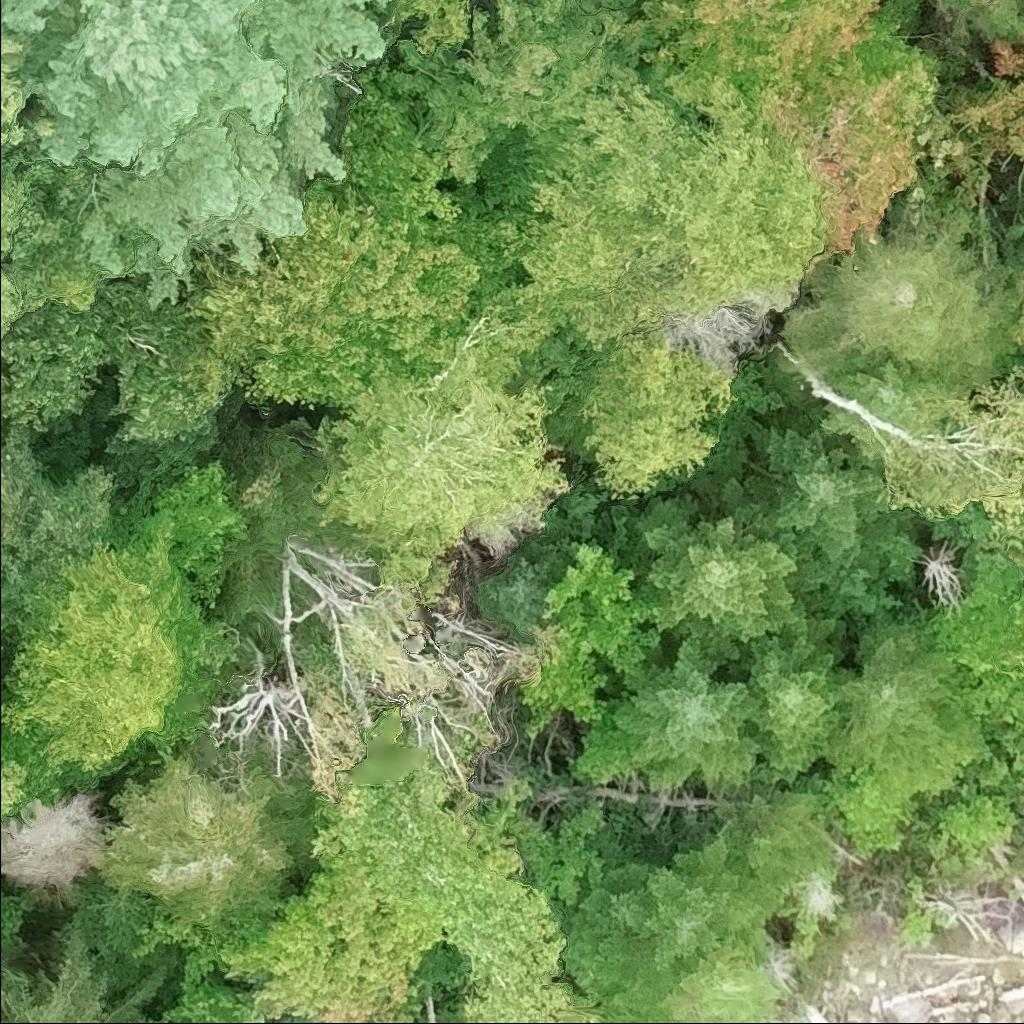crown: (0, 0, 395, 307), (240, 62, 528, 411), (481, 72, 834, 347), (309, 306, 575, 600), (309, 768, 574, 1023), (177, 176, 379, 421), (0, 515, 181, 778), (781, 203, 1023, 390), (98, 744, 323, 934), (768, 17, 940, 256), (212, 848, 446, 1023), (710, 419, 917, 613), (564, 835, 783, 1010), (632, 486, 847, 660), (0, 281, 206, 451), (373, 6, 558, 189), (545, 332, 736, 507), (641, 0, 890, 112), (518, 540, 663, 727), (0, 41, 88, 338), (873, 363, 1023, 534), (605, 638, 765, 793), (0, 423, 120, 614), (490, 0, 660, 129), (719, 630, 856, 789), (827, 615, 965, 770), (917, 33, 1023, 204), (0, 927, 167, 1023), (506, 796, 643, 907), (706, 775, 838, 889), (917, 552, 1023, 674), (162, 582, 232, 748), (0, 789, 109, 894), (656, 937, 789, 1023), (825, 361, 967, 437), (473, 538, 569, 642), (159, 949, 259, 1023), (817, 405, 885, 483), (377, 0, 469, 55), (918, 0, 1023, 41), (915, 540, 969, 610), (0, 731, 30, 818), (1009, 246, 1023, 335), (0, 574, 15, 646), (274, 1018, 307, 1023), (450, 1018, 473, 1023), (0, 688, 5, 707), (1020, 545, 1023, 558)
